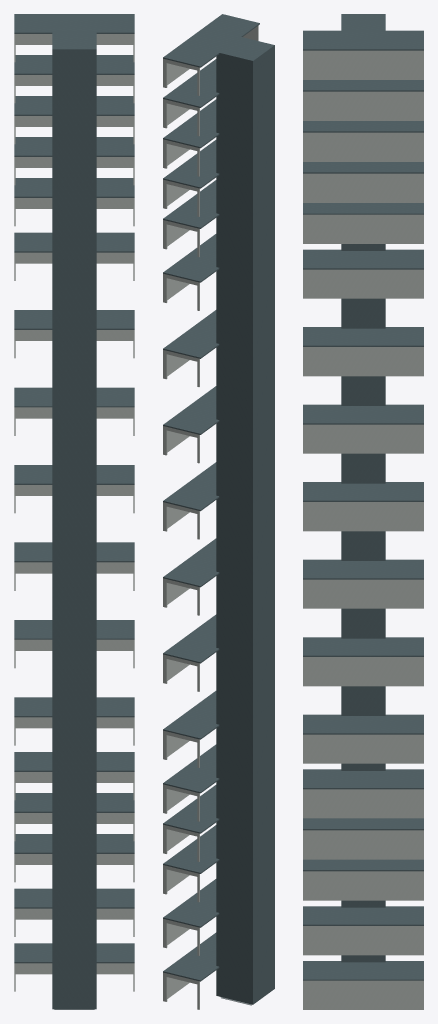
The model's file is AST-STF-G3-033.glb.
The picture shows the model from 3 angles, left to right: view 1: azimuth 90°, elevation 25°; view 2: azimuth 150°, elevation 25°; view 3: azimuth 270°, elevation 25°; orthographic projection.
Parts seen in each view (by area): view 1: shaft_architecture_staff_bluegrey_paint_y0, shaft_architecture_staff_bluegrey_paint_y1, shaft_architecture_staff_bluegrey_paint_y2, shaft_architecture_staff_bluegrey_paint_y3, shaft_architecture_staff_bluegrey_paint_y4, shaft_architecture_staff_bluegrey_paint_y5, shaft_architecture_staff_bluegrey_paint_y10, shaft_architecture_staff_bluegrey_paint_y11, shaft_architecture_staff_bluegrey_paint_y12, shaft_architecture_staff_bluegrey_paint_y6, shaft_architecture_staff_bluegrey_paint_y7, shaft_architecture_staff_bluegrey_paint_y8 (+28 smaller); view 2: shaft_architecture_staff_bluegrey_paint_y7, shaft_architecture_staff_bluegrey_paint_y8, shaft_architecture_staff_bluegrey_paint_y0, shaft_architecture_staff_bluegrey_paint_y2, shaft_architecture_staff_bluegrey_paint_y9, shaft_architecture_staff_bluegrey_paint_y6, shaft_architecture_staff_bluegrey_paint_y11, shaft_architecture_staff_bluegrey_paint_y3, shaft_architecture_staff_bluegrey_paint_y12, shaft_architecture_staff_bluegrey_paint_y4, shaft_architecture_staff_bluegrey_paint_y5, shaft_architecture_staff_bluegrey_paint_y10 (+28 smaller); view 3: lobby_wall_staff_white_paint_y0, lobby_wall_staff_white_paint_y2, lobby_wall_staff_white_paint_y11, lobby_wall_staff_white_paint_y12, overhead_staff_bluegrey_paint_y3, overhead_staff_bluegrey_paint_y1, overhead_staff_bluegrey_paint_y10, lobby_wall_staff_white_paint_y1, lobby_wall_staff_white_paint_y3, lobby_wall_staff_white_paint_y4, lobby_wall_staff_white_paint_y5, lobby_wall_staff_white_paint_y6 (+23 smaller).
Boxes of the visible parts, left/top/right/bottom form: shaft_architecture_staff_bluegrey_paint_y0: left=52, top=936, right=96, bottom=1009; shaft_architecture_staff_bluegrey_paint_y1: left=52, top=863, right=96, bottom=936; shaft_architecture_staff_bluegrey_paint_y2: left=52, top=790, right=96, bottom=863; shaft_architecture_staff_bluegrey_paint_y3: left=52, top=717, right=96, bottom=790; shaft_architecture_staff_bluegrey_paint_y4: left=52, top=644, right=96, bottom=717; shaft_architecture_staff_bluegrey_paint_y5: left=52, top=571, right=96, bottom=644; shaft_architecture_staff_bluegrey_paint_y10: left=52, top=207, right=96, bottom=280; shaft_architecture_staff_bluegrey_paint_y11: left=52, top=134, right=96, bottom=207; shaft_architecture_staff_bluegrey_paint_y12: left=52, top=61, right=96, bottom=134; shaft_architecture_staff_bluegrey_paint_y6: left=52, top=499, right=96, bottom=571; shaft_architecture_staff_bluegrey_paint_y7: left=52, top=426, right=96, bottom=498; shaft_architecture_staff_bluegrey_paint_y8: left=52, top=353, right=96, bottom=425; shaft_architecture_staff_bluegrey_paint_y7: left=216, top=373, right=274, bottom=502; shaft_architecture_staff_bluegrey_paint_y8: left=216, top=297, right=274, bottom=431; shaft_architecture_staff_bluegrey_paint_y0: left=216, top=888, right=274, bottom=1004; shaft_architecture_staff_bluegrey_paint_y2: left=216, top=754, right=274, bottom=861; shaft_architecture_staff_bluegrey_paint_y9: left=216, top=243, right=274, bottom=359; shaft_architecture_staff_bluegrey_paint_y6: left=216, top=449, right=274, bottom=574; shaft_architecture_staff_bluegrey_paint_y11: left=216, top=122, right=274, bottom=216; shaft_architecture_staff_bluegrey_paint_y3: left=216, top=678, right=274, bottom=789; shaft_architecture_staff_bluegrey_paint_y12: left=216, top=55, right=274, bottom=144; shaft_architecture_staff_bluegrey_paint_y4: left=216, top=601, right=274, bottom=717; shaft_architecture_staff_bluegrey_paint_y5: left=216, top=559, right=274, bottom=646; shaft_architecture_staff_bluegrey_paint_y10: left=216, top=200, right=274, bottom=287; lobby_wall_staff_white_paint_y0: left=303, top=926, right=423, bottom=1009; lobby_wall_staff_white_paint_y2: left=303, top=789, right=423, bottom=859; lobby_wall_staff_white_paint_y11: left=303, top=132, right=423, bottom=202; lobby_wall_staff_white_paint_y12: left=303, top=50, right=423, bottom=120; overhead_staff_bluegrey_paint_y3: left=303, top=714, right=423, bottom=789; overhead_staff_bluegrey_paint_y1: left=303, top=859, right=423, bottom=925; overhead_staff_bluegrey_paint_y10: left=303, top=203, right=423, bottom=269; lobby_wall_staff_white_paint_y1: left=303, top=871, right=423, bottom=900; lobby_wall_staff_white_paint_y3: left=303, top=734, right=423, bottom=763; lobby_wall_staff_white_paint_y4: left=303, top=657, right=423, bottom=686; lobby_wall_staff_white_paint_y5: left=303, top=579, right=423, bottom=608; lobby_wall_staff_white_paint_y6: left=303, top=502, right=423, bottom=531.
Size of the model in its own units: 8.32 by 106 by 12.
4 materials, 4 textured.
